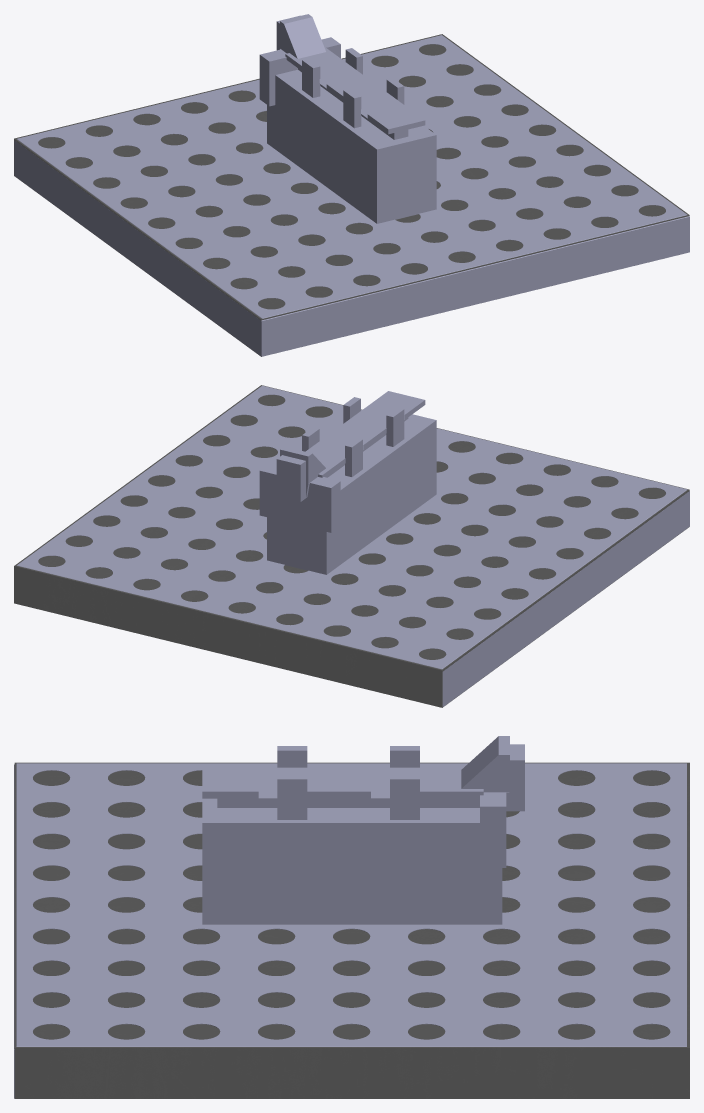
Rendered from Pallet_Cube01.glb.
3 views of the same model, one above another, from view 1: azimuth 30°, elevation 25°; view 2: azimuth 150°, elevation 25°; view 3: azimuth 270°, elevation 25° (orthographic). The views are drawn at different scales.
Visible parts, largest first — view 1: PiastraForata; view 2: PiastraForata; view 3: PiastraForata.
Part boxes in pixels (<box>): PiastraForata: <box>14,14,689,356</box>; PiastraForata: <box>14,385,689,707</box>; PiastraForata: <box>14,736,689,1098</box>.
Size of the model in its own units: 0.18 by 0.062 by 0.1802.
Materials: 2 (1 with a texture image).
